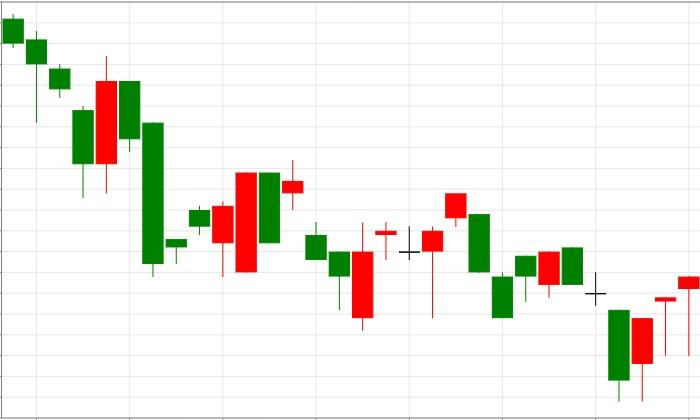bullish_engulfing_rise: (282, 160, 374, 331)
